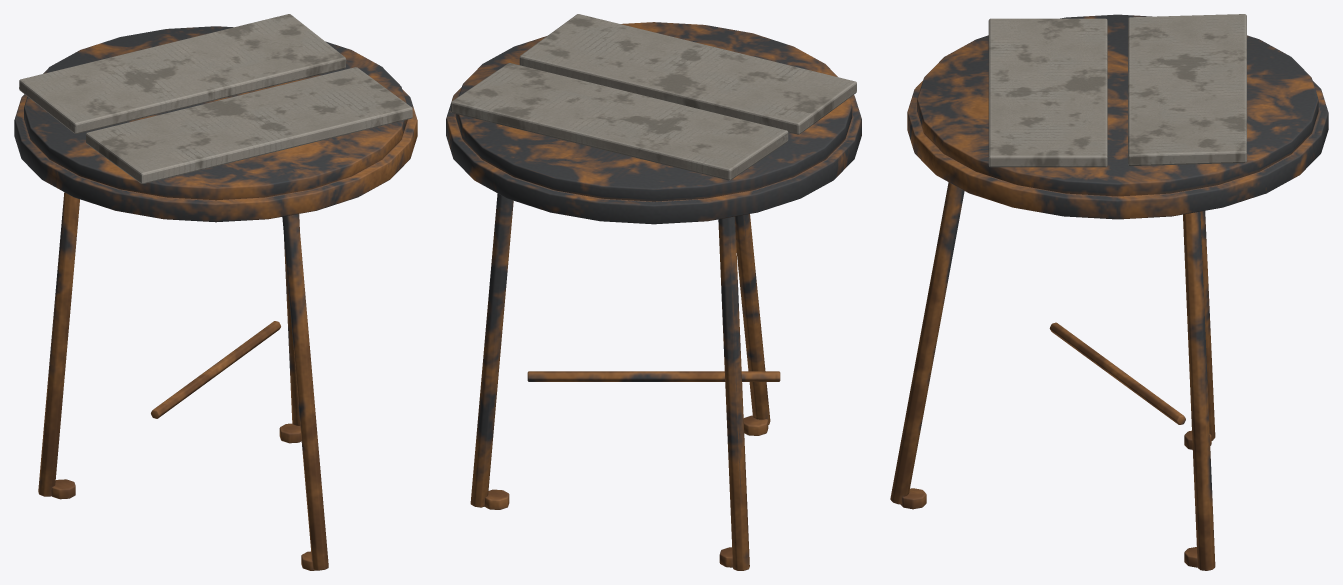
The model's file is table_side.glb.
3 views of the same model, side by side, from view 1: azimuth 30°, elevation 25°; view 2: azimuth 150°, elevation 25°; view 3: azimuth 270°, elevation 25° (orthographic). The views are drawn at different scales.
Parts seen in each view (by area): view 1: table_side_WearChairIronTbl, table_side_WearChairTimberTbl; view 2: table_side_WearChairIronTbl, table_side_WearChairTimberTbl; view 3: table_side_WearChairIronTbl, table_side_WearChairTimberTbl.
Boxes of the visible parts, bbox=[...] form: table_side_WearChairIronTbl: bbox=[14, 26, 417, 570]; table_side_WearChairTimberTbl: bbox=[19, 14, 412, 183]; table_side_WearChairIronTbl: bbox=[446, 22, 861, 570]; table_side_WearChairTimberTbl: bbox=[451, 14, 856, 180]; table_side_WearChairIronTbl: bbox=[890, 14, 1328, 570]; table_side_WearChairTimberTbl: bbox=[988, 14, 1246, 167].
Size of the model in its own units: 0.514 by 0.5672 by 0.5345.
2 materials, 2 textured.
